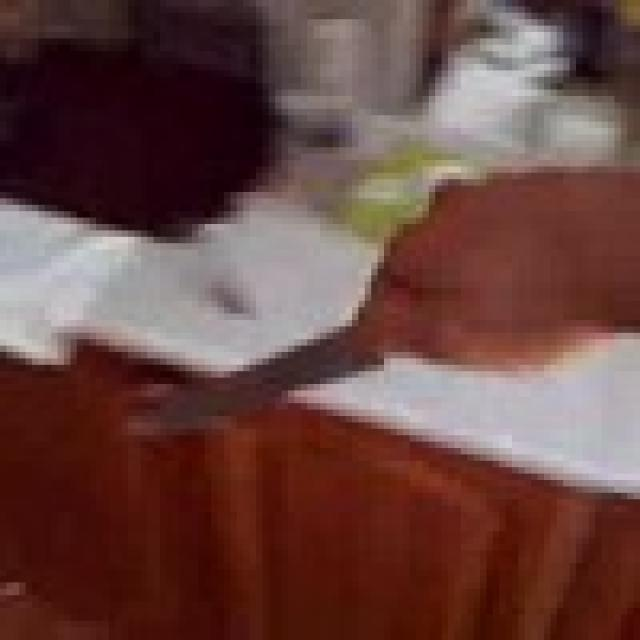Knife: (121, 314, 396, 435)
